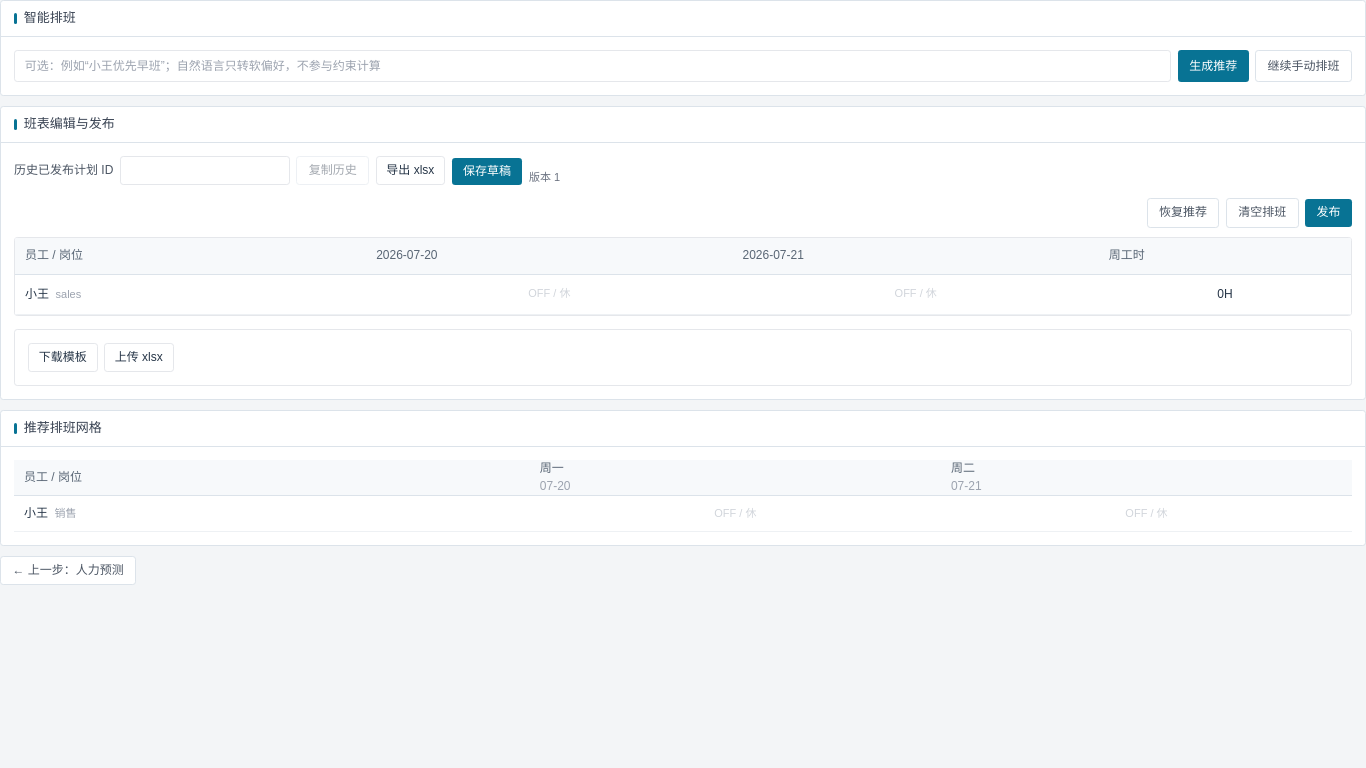
Test: allows the first valid manual cell after a 503 while showing a remote staffing gap
Click the button "生成推荐": (1213, 66) [1178,50,1249,82]
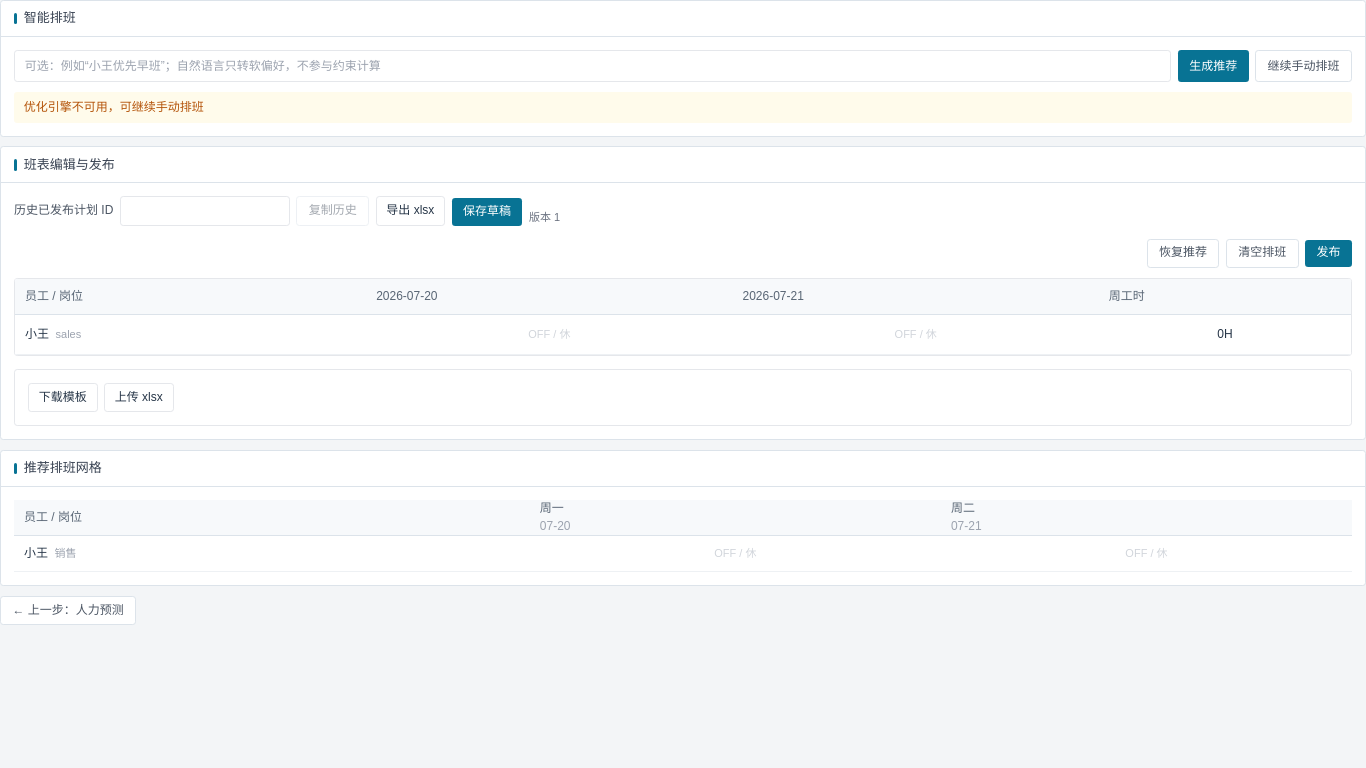
Click the button "继续手动排班": (1304, 66) [1255,50,1352,82]
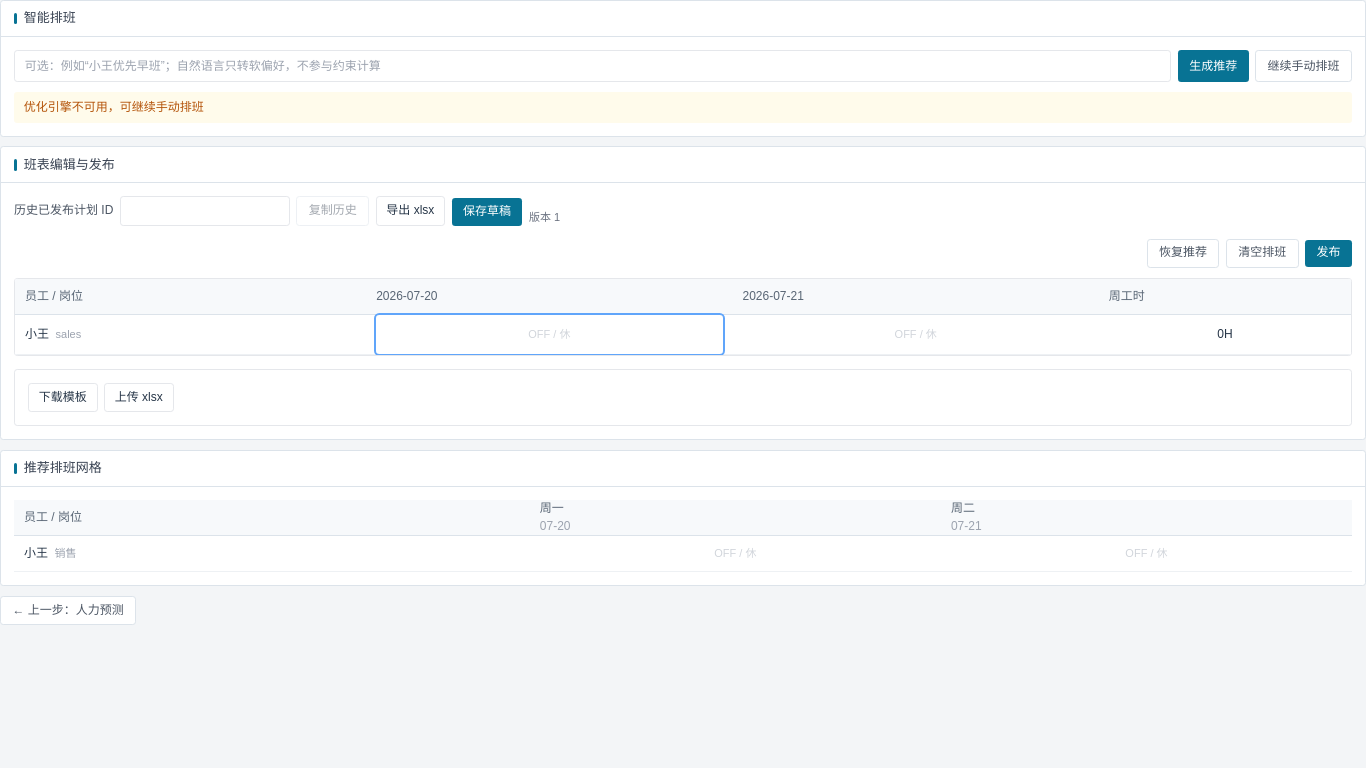
Click the button with test id "cell-e1-2026-07-20": (549, 334) [376,315,722,354]
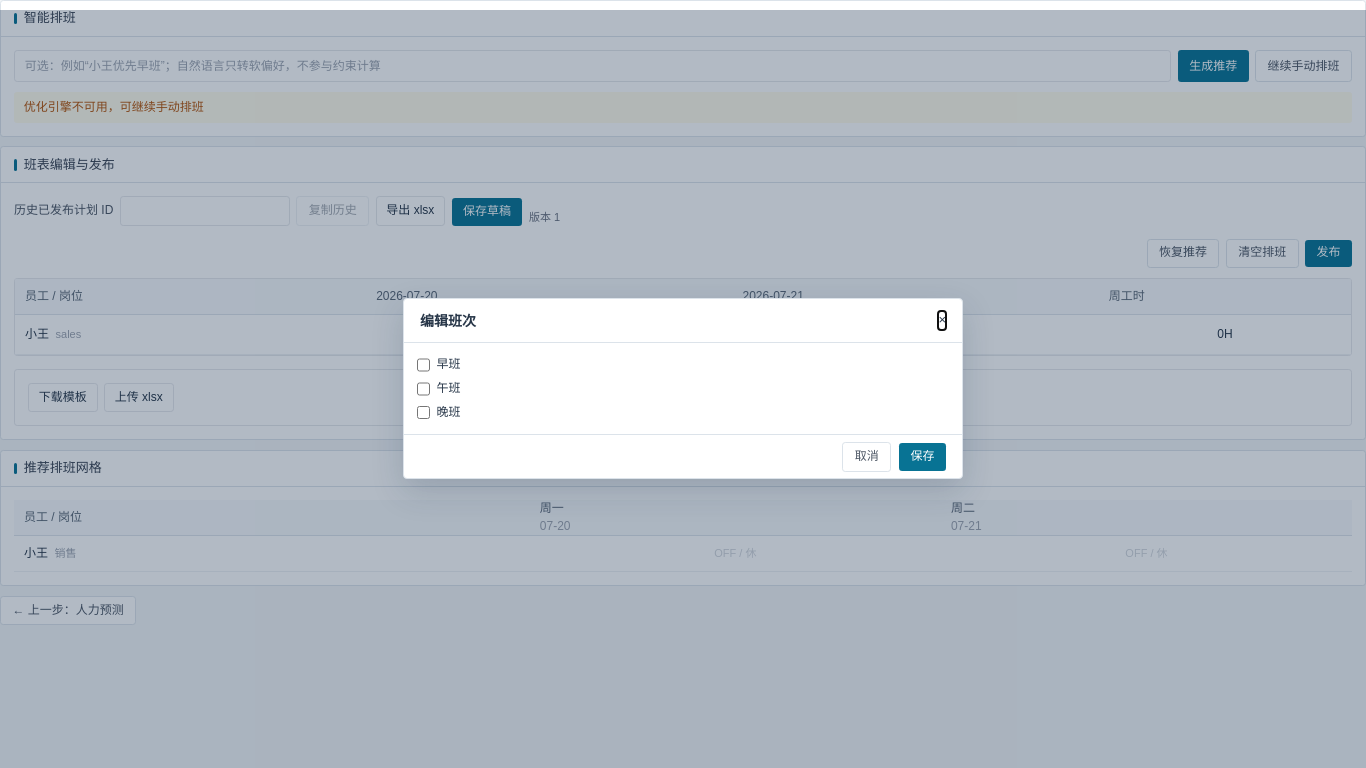
Click the checkbox labelled "早班": (424, 365) [417,356,430,374]
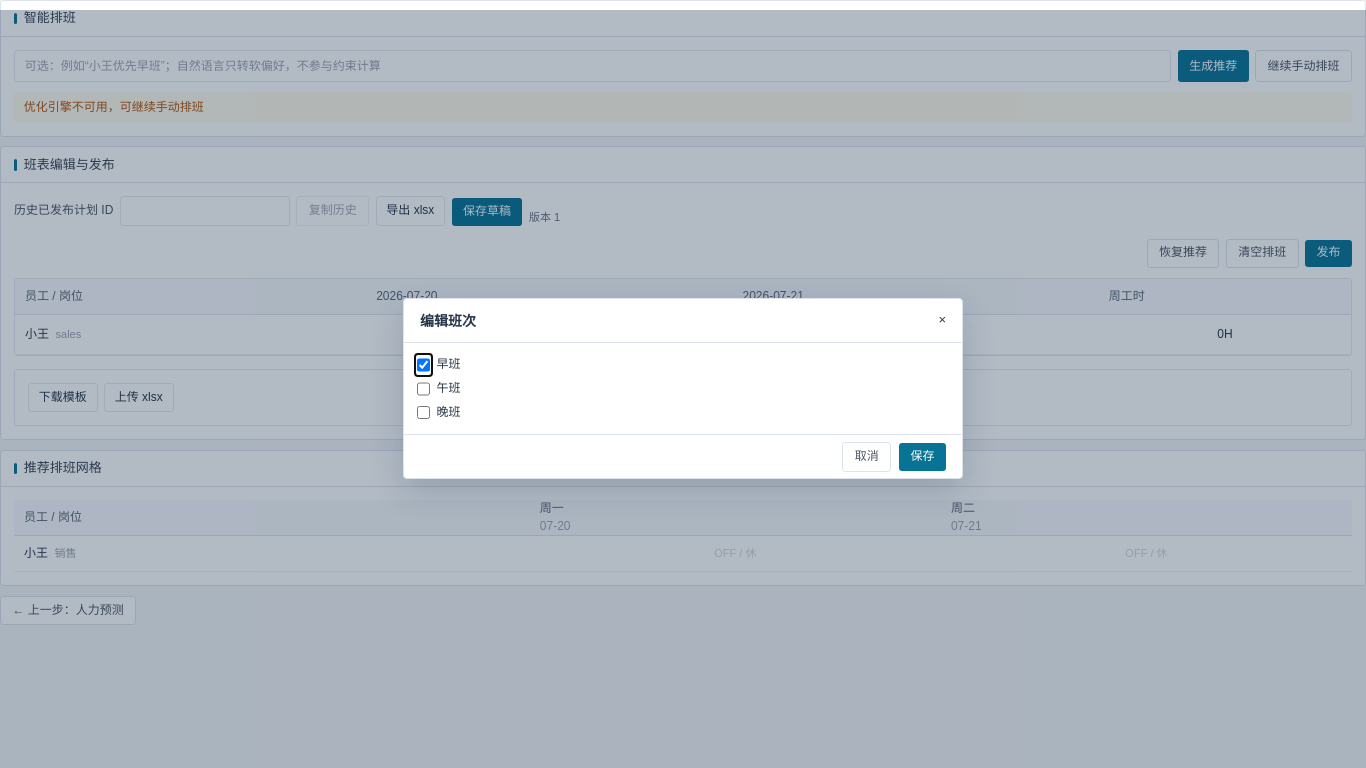
Click the button "保存": (923, 457) [899,443,946,470]
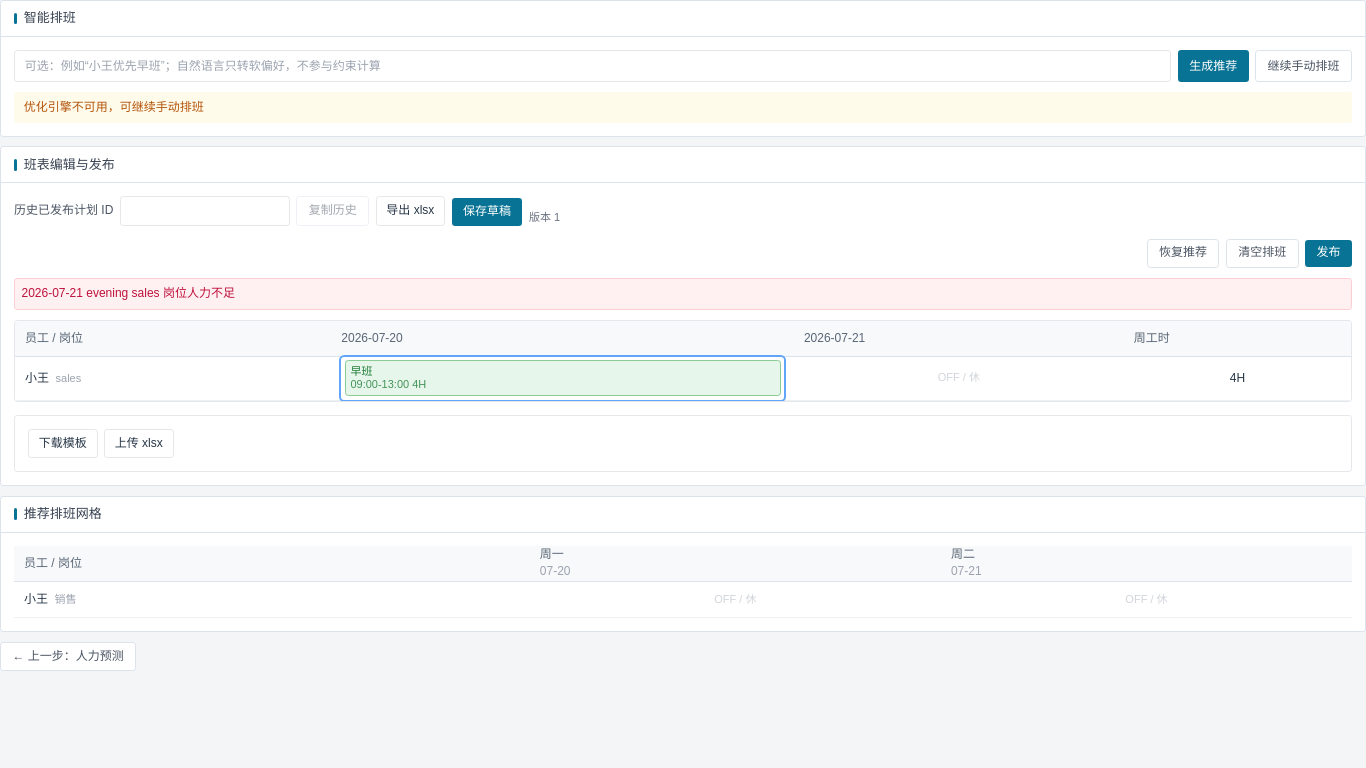
Expected: the button with test id "cell-e1-2026-07-20" shows "早班", [341,357,784,400]
Expected: the text "2026-07-21 evening sales 岗位人力不足" is shown, [22,286,235,300]
